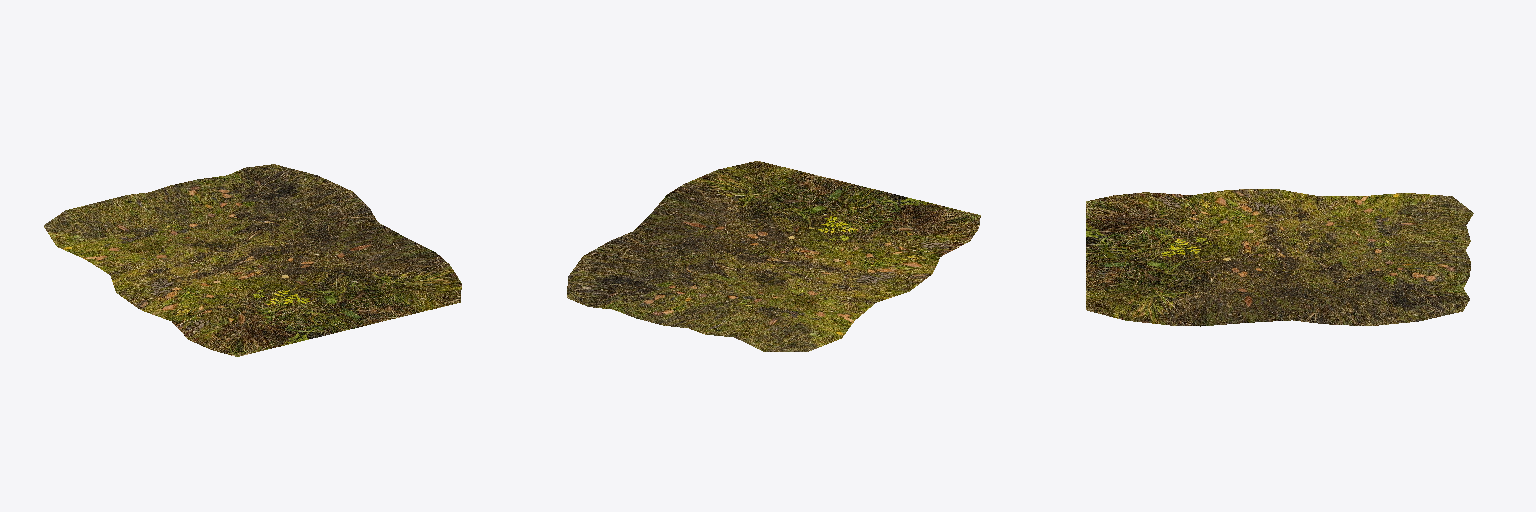
3 renders of one model, left to right at view 1: azimuth 30°, elevation 25°; view 2: azimuth 150°, elevation 25°; view 3: azimuth 270°, elevation 25°, orthographic.
Visible parts, largest first — view 1: Grid; view 2: Grid; view 3: Grid.
Part boxes in pixels (bbox=[...]): Grid: bbox=[44, 164, 461, 356]; Grid: bbox=[567, 161, 980, 351]; Grid: bbox=[1086, 189, 1473, 326].
Bounding box in the file's own units: 3.76 × 0.0855 × 4.5.
Materials: 1 (1 with a texture image).